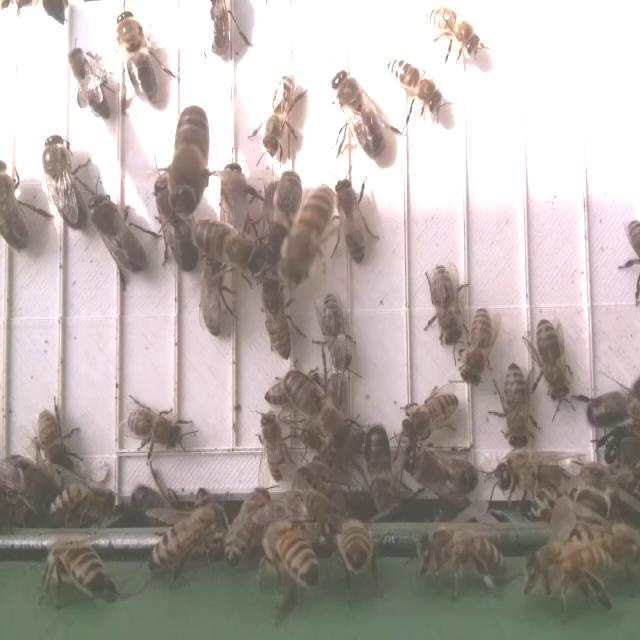Drone: (282, 364, 352, 446), (330, 66, 389, 162), (166, 104, 212, 220), (90, 192, 153, 276), (153, 174, 202, 276), (40, 131, 88, 232), (115, 7, 162, 109), (403, 444, 484, 499), (191, 216, 266, 275), (359, 421, 401, 522), (0, 157, 32, 257)
Worker: (282, 182, 334, 283), (533, 317, 574, 408), (402, 386, 462, 447), (457, 304, 498, 390), (386, 54, 443, 115), (260, 71, 298, 161), (426, 258, 462, 352), (125, 402, 187, 455), (498, 358, 533, 451), (317, 289, 354, 376), (71, 44, 112, 122), (425, 4, 481, 59), (259, 279, 296, 362), (336, 177, 369, 269), (35, 402, 74, 479), (197, 259, 233, 338), (256, 406, 289, 487)
